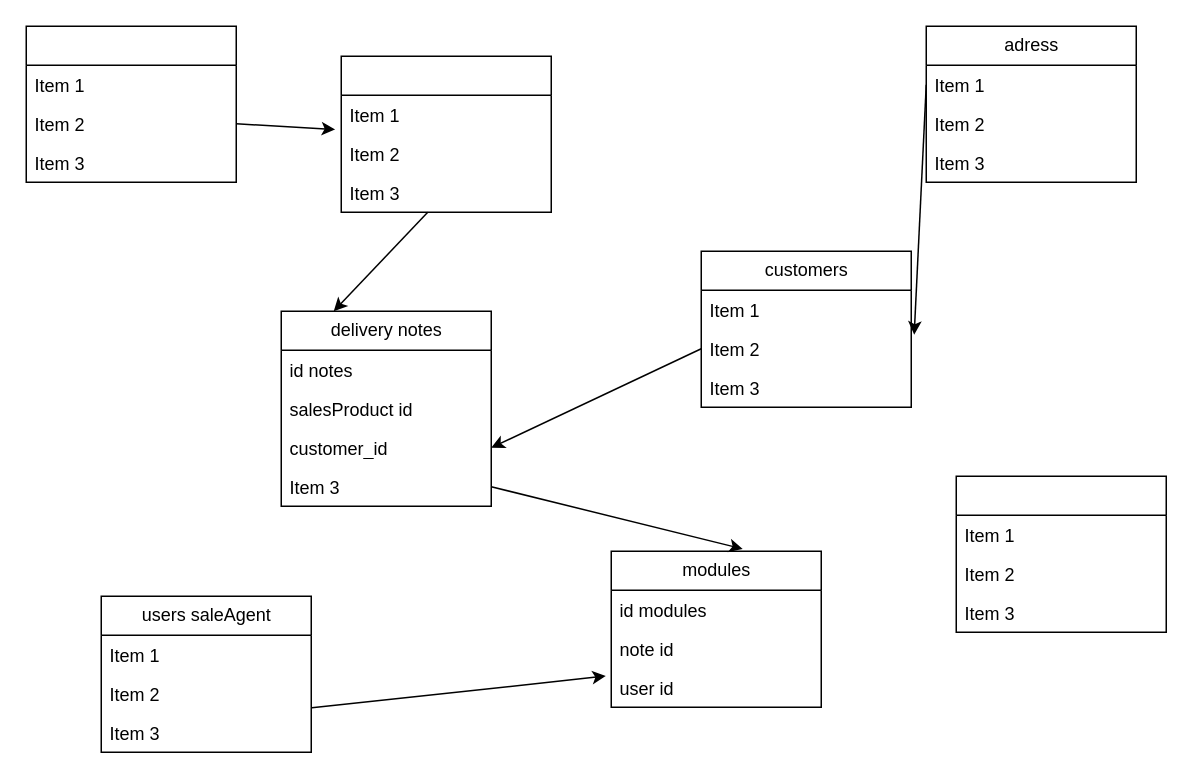
This 1193x783 diagram has some shape labels left out. Each missing label, with the box of its shape:
protucto: (25, 25, 236, 182)
saleProducts: (340, 55, 551, 212)
users delivery: (955, 475, 1166, 632)
